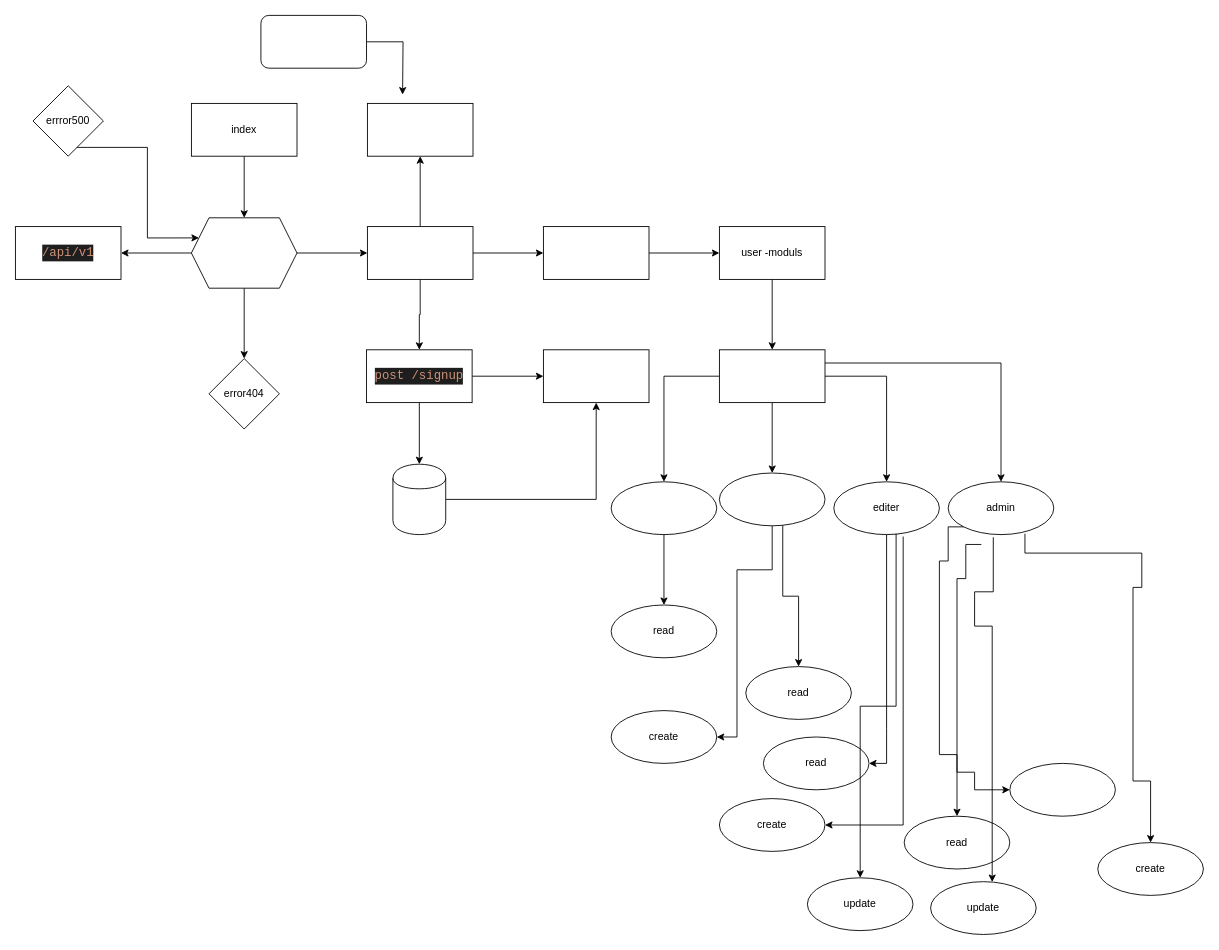
This 1219x950 diagram has some shape labels left out. Each missing label, with the centre of its shape:
"/api/v2" goes at pixel 420 252.
"database" goes at pixel 419 499.
"delete" goes at pixel 1062 789.
"post /signin" goes at pixel 596 376.
"router" goes at pixel 596 252.
"sever" goes at pixel 244 252.
"user" goes at pixel 663 508.
"users" goes at pixel 772 376.
"writer" goes at pixel 772 499.
